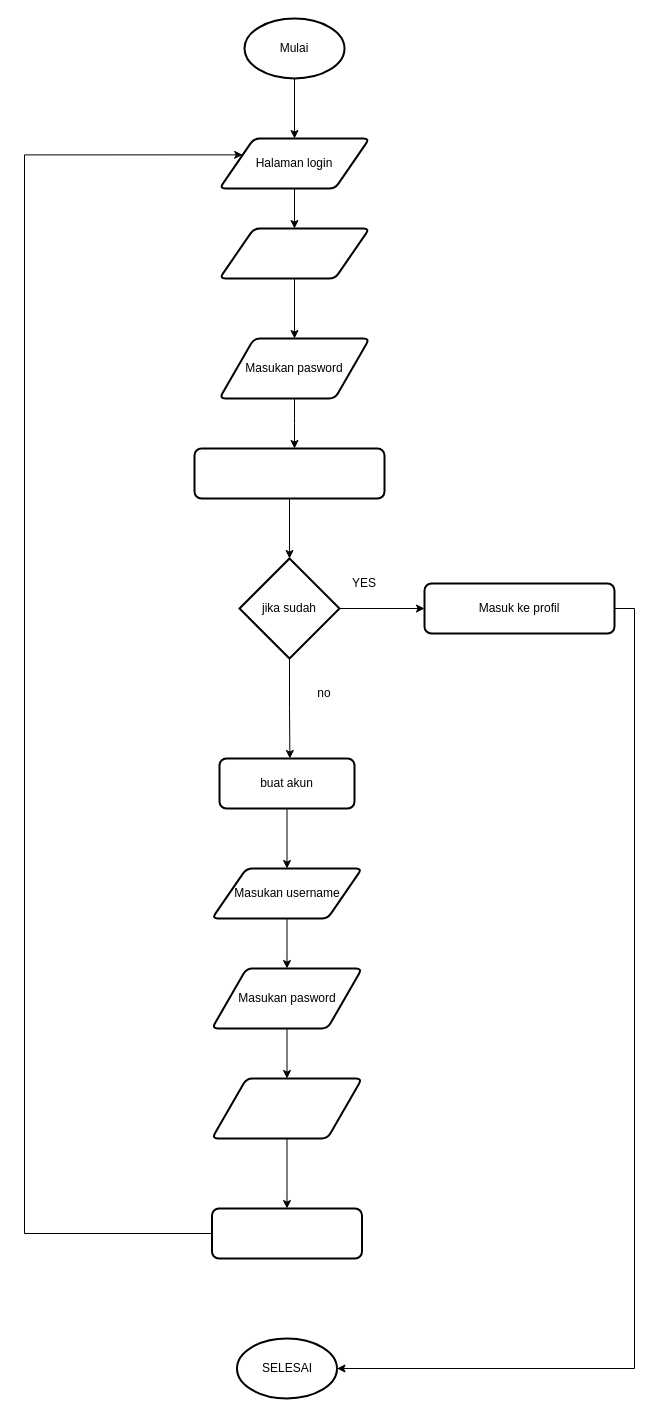
The diagram is 660 pixels wide and 1416 high, and some of its shapes have lost their labels. The centre of each missing label's shape, as x and y in pixels:
"Masukan email" belongs at pixel 294 253.
"Memeriksa akun" belongs at pixel 289 473.
"Menyimpan data user" belongs at pixel 286 1233.
"verifikasi password" belongs at pixel 286 1108.
